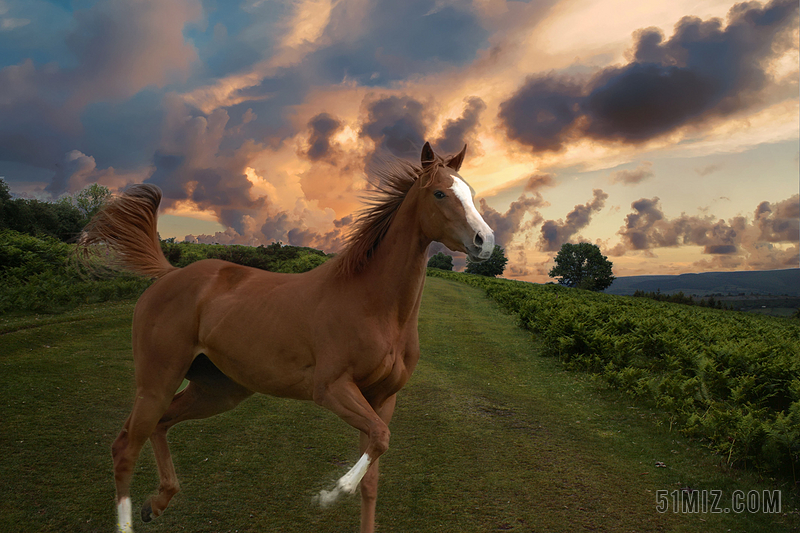horse: (74, 136, 498, 530)
